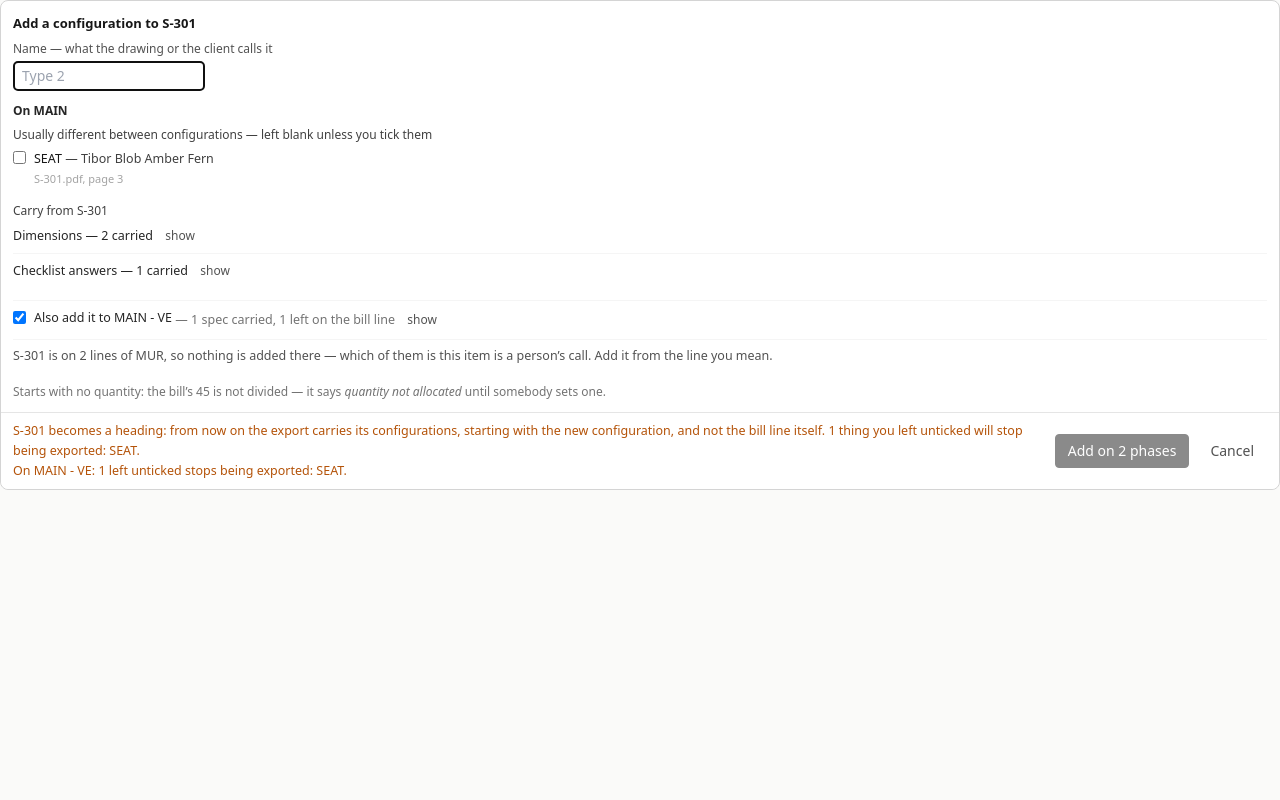
the same bill line on the other phases › offers each other phase as one ticked line, its OWN specs behind show, and says why an ambiguous one is offered nothing
The width and height of the screenshot is (1280, 800).
Step 1. Type "Type 3" into the field with placeholder "Type 2" → (109, 76), box x1=13 y1=61 x2=205 y2=91
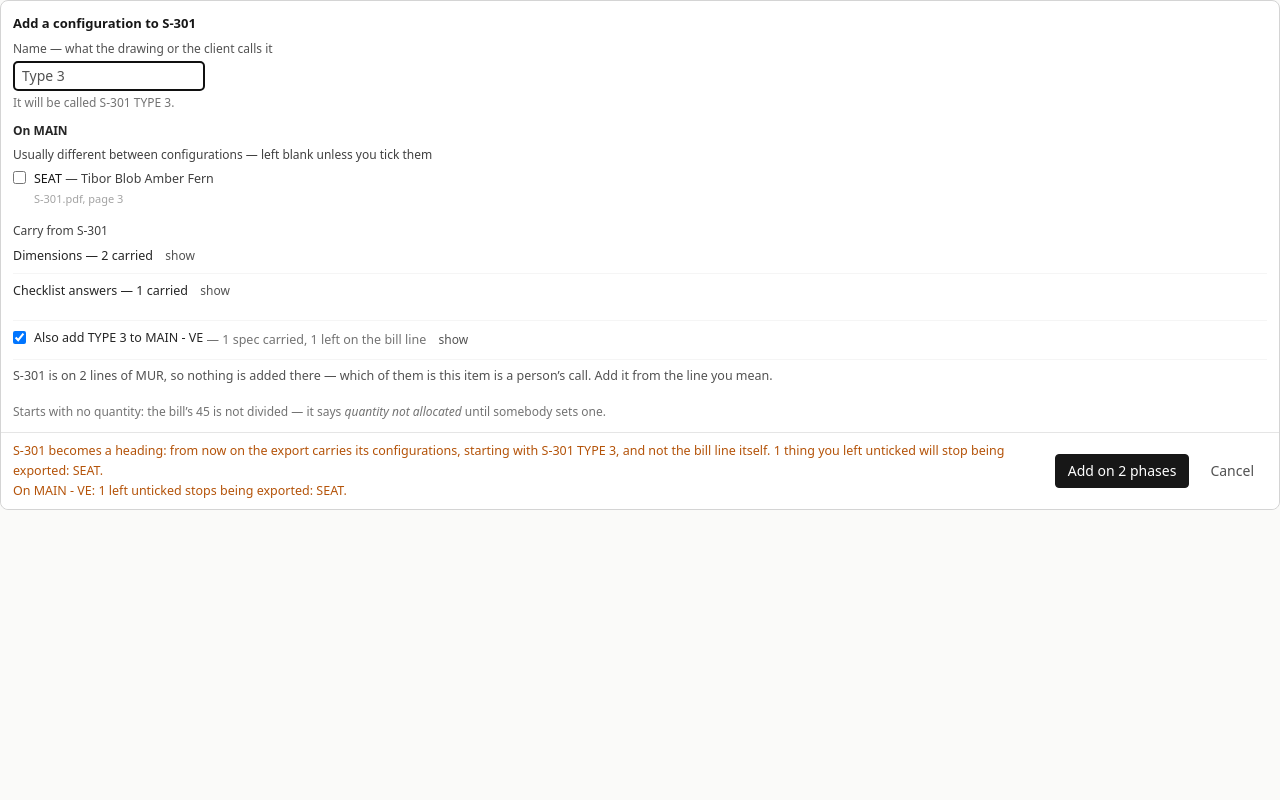
expect the checkbox labelled "Also add TYPE 3 to MAIN - VE" is checked: met, box x1=13 y1=331 x2=26 y2=344
expect the text "— 1 spec carried, 1 left on the bill line" is shown: met, box x1=203 y1=331 x2=426 y2=348
Step 2. Click the button with aria-label "Show what is carried on MAIN - VE" → (453, 340), box x1=430 y1=327 x2=477 y2=353
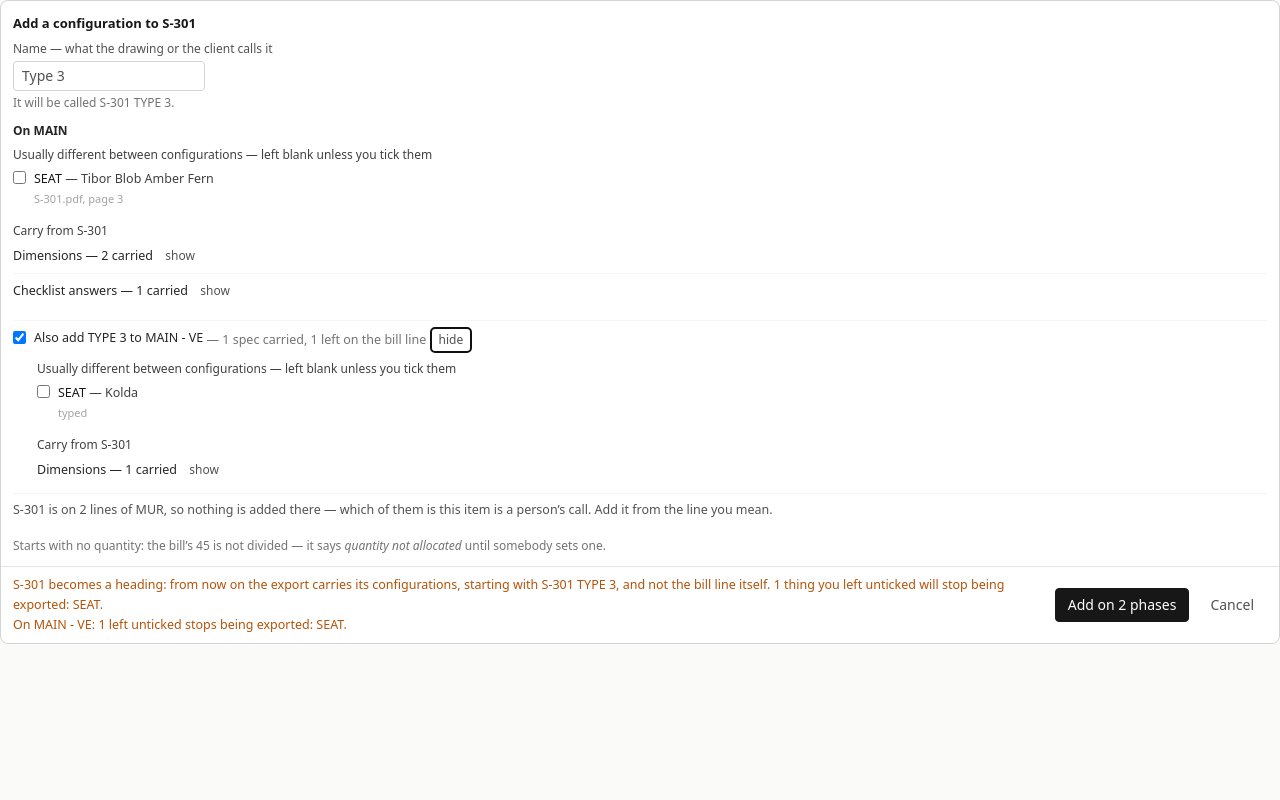
Step 3. Click the button with aria-label "Show Dimensions on MAIN - VE" → (204, 470), box x1=180 y1=457 x2=228 y2=483
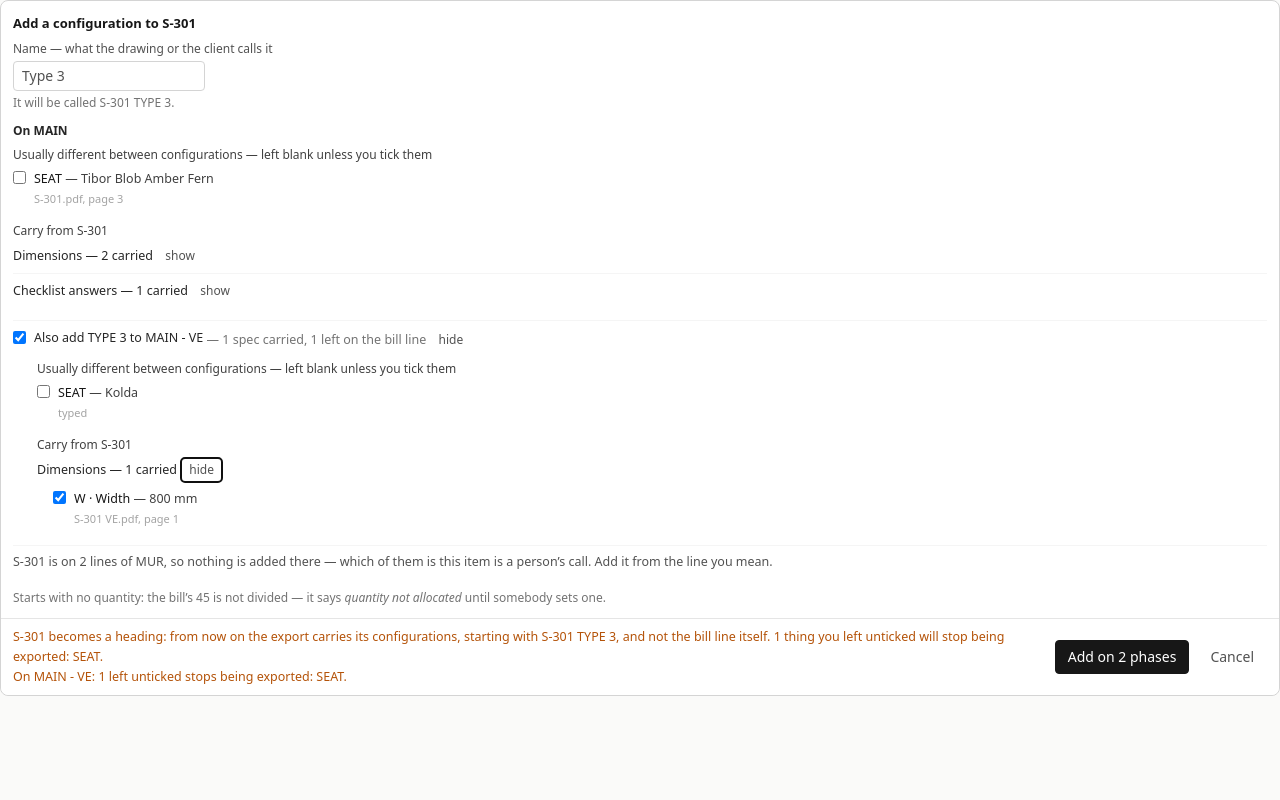
expect the list item "S-301 is on 2 lines of MUR, so nothing is added there" is shown: met, box x1=13 y1=545 x2=1267 y2=578
expect the checkbox named "Carry W · Width on MAIN - VE" is checked: met, box x1=53 y1=491 x2=66 y2=504
expect the text "— 800 mm" is shown: met, box x1=130 y1=490 x2=197 y2=507
